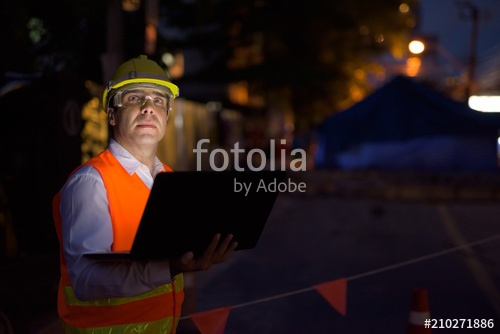yellow: (101, 54, 180, 149)
